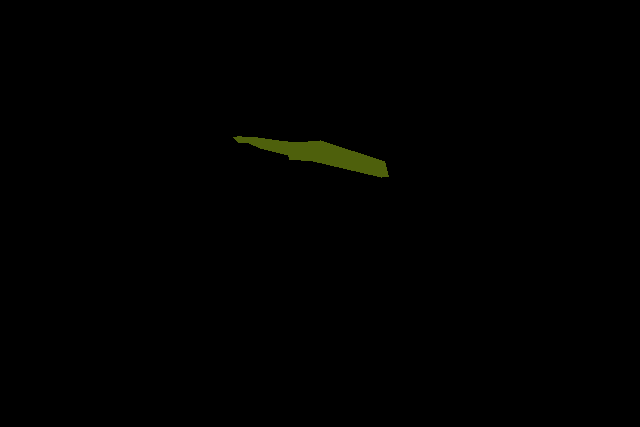Train: (233, 136, 389, 178)
